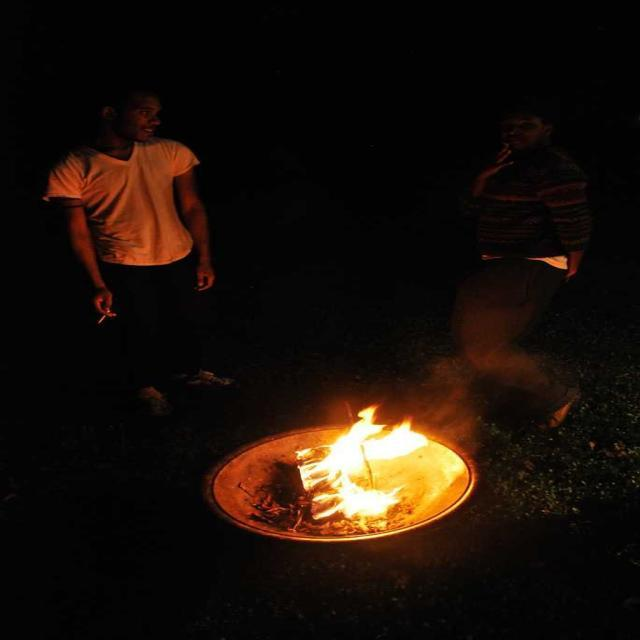Fire: (336, 420, 396, 466), (339, 490, 386, 514)
